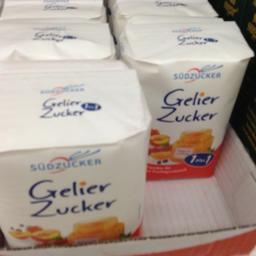sugar: (0, 62, 150, 248), (122, 16, 252, 182)
